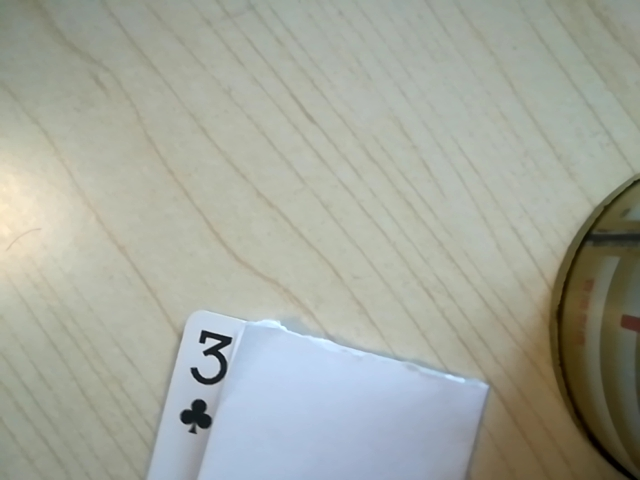mh 3: (170, 327, 242, 452)
